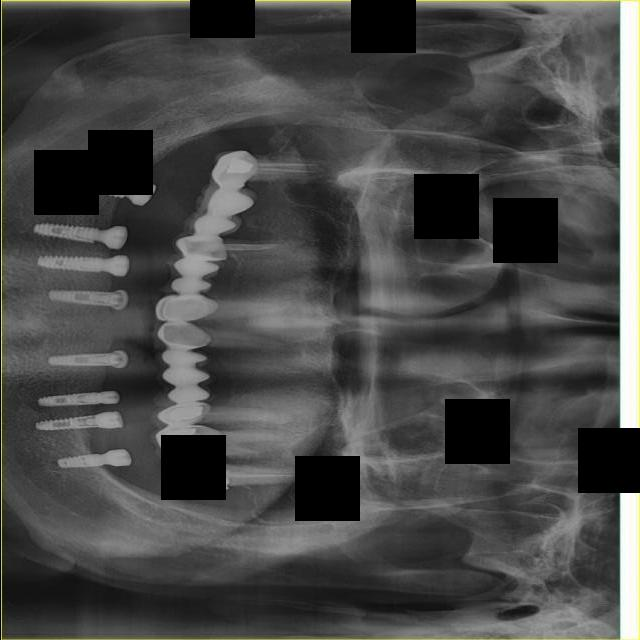55: (67, 174, 157, 207), (32, 222, 128, 249), (35, 250, 130, 277), (35, 410, 122, 432), (47, 289, 128, 310), (48, 351, 127, 370), (57, 448, 131, 468), (38, 391, 119, 408)
74: (222, 470, 303, 481), (258, 166, 319, 175), (224, 243, 287, 251), (256, 162, 319, 167), (256, 171, 288, 175)
NucleOSS Implant: (173, 467, 229, 490), (167, 404, 203, 423), (225, 158, 253, 173), (170, 428, 196, 438)
Zimmer Implant: (147, 423, 224, 463), (205, 147, 260, 190), (147, 398, 212, 432), (149, 290, 217, 322), (195, 184, 256, 219), (173, 230, 229, 264), (149, 380, 211, 410), (149, 321, 208, 352), (181, 211, 239, 237), (155, 347, 211, 372), (154, 365, 217, 387), (160, 274, 213, 298), (166, 256, 216, 281)
